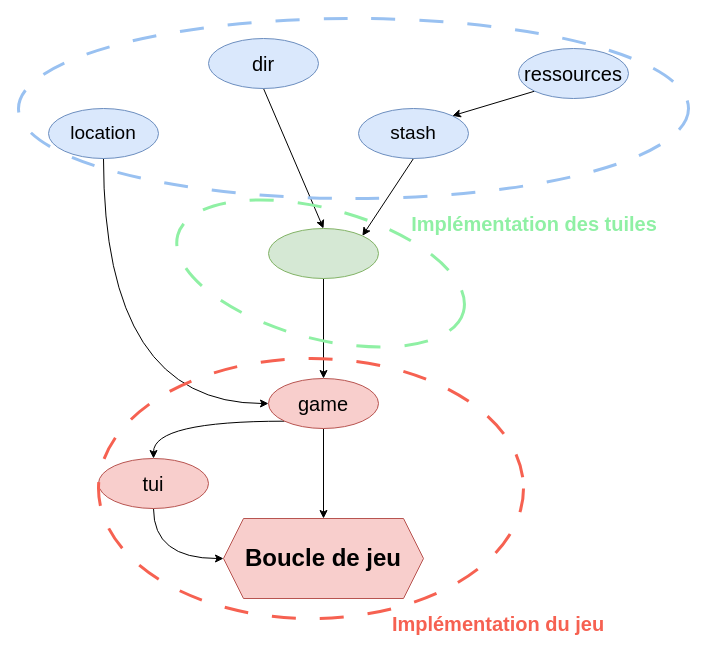
This 707x656 diagram has some shape labels left out. The centre of each missing label's shape, as x and y in pixels:
Fondation: (x=353, y=108)
tile: (x=323, y=253)
